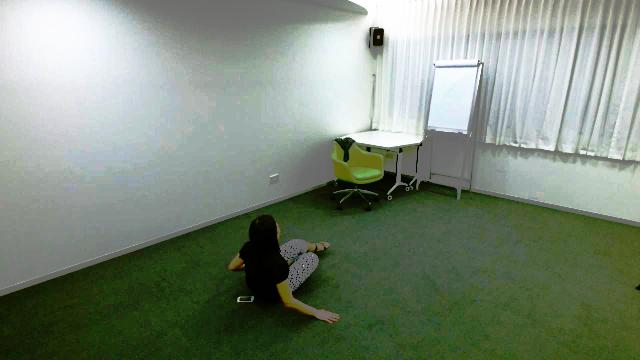jatuh: (227, 208, 349, 332)
